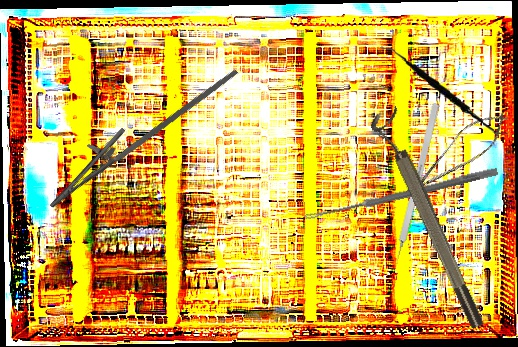Fixation Ring: (367, 106, 488, 335)
Hook Surgical: (389, 102, 441, 276)
Micro Scissor: (395, 101, 517, 211)
Needle Holder: (37, 36, 239, 229)
Spatula Surgical: (373, 45, 516, 135)
Surgical Spoon: (303, 166, 499, 223)
